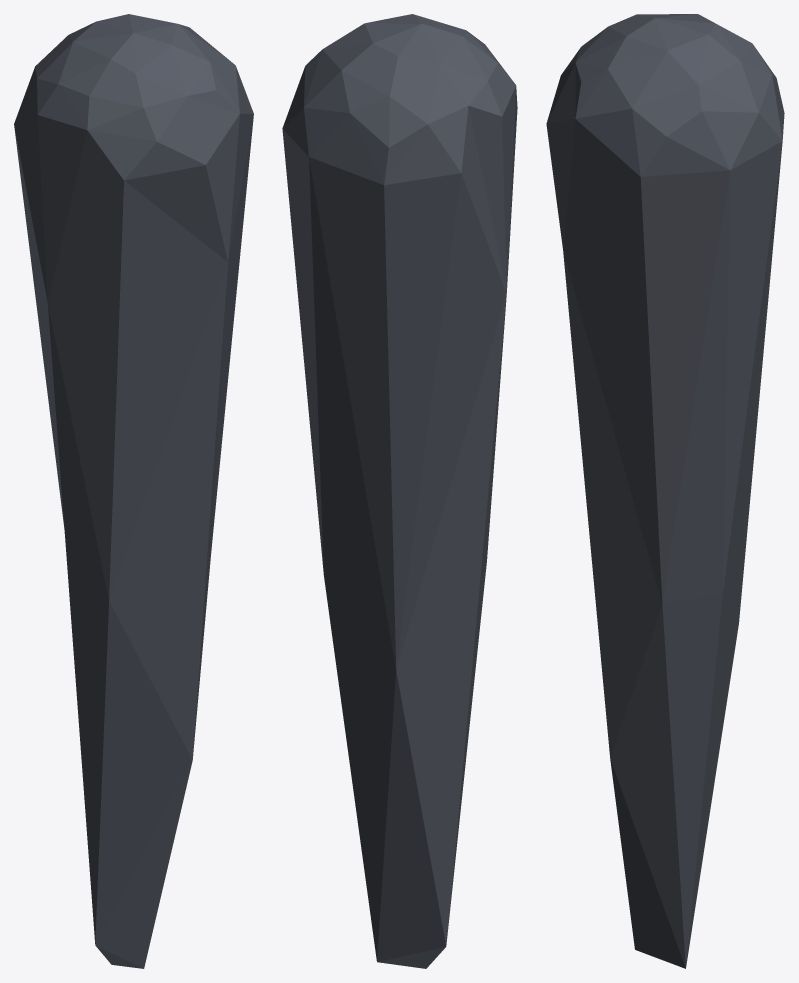
Rendered from animal_cassowary_blob_leg.obj.
3 views of the same model, side by side, from view 1: azimuth 30°, elevation 25°; view 2: azimuth 150°, elevation 25°; view 3: azimuth 270°, elevation 25° (orthographic).
Parts seen in each view (by area): view 1: animal_cassowary_blob_leg; view 2: animal_cassowary_blob_leg; view 3: animal_cassowary_blob_leg.
Boxes of the visible parts, x1=… form: animal_cassowary_blob_leg: x1=14, y1=14, x2=253, y2=968; animal_cassowary_blob_leg: x1=282, y1=14, x2=517, y2=968; animal_cassowary_blob_leg: x1=546, y1=14, x2=784, y2=968.
Size of the model in its own units: 0.1388 by 0.6157 by 0.1417.
